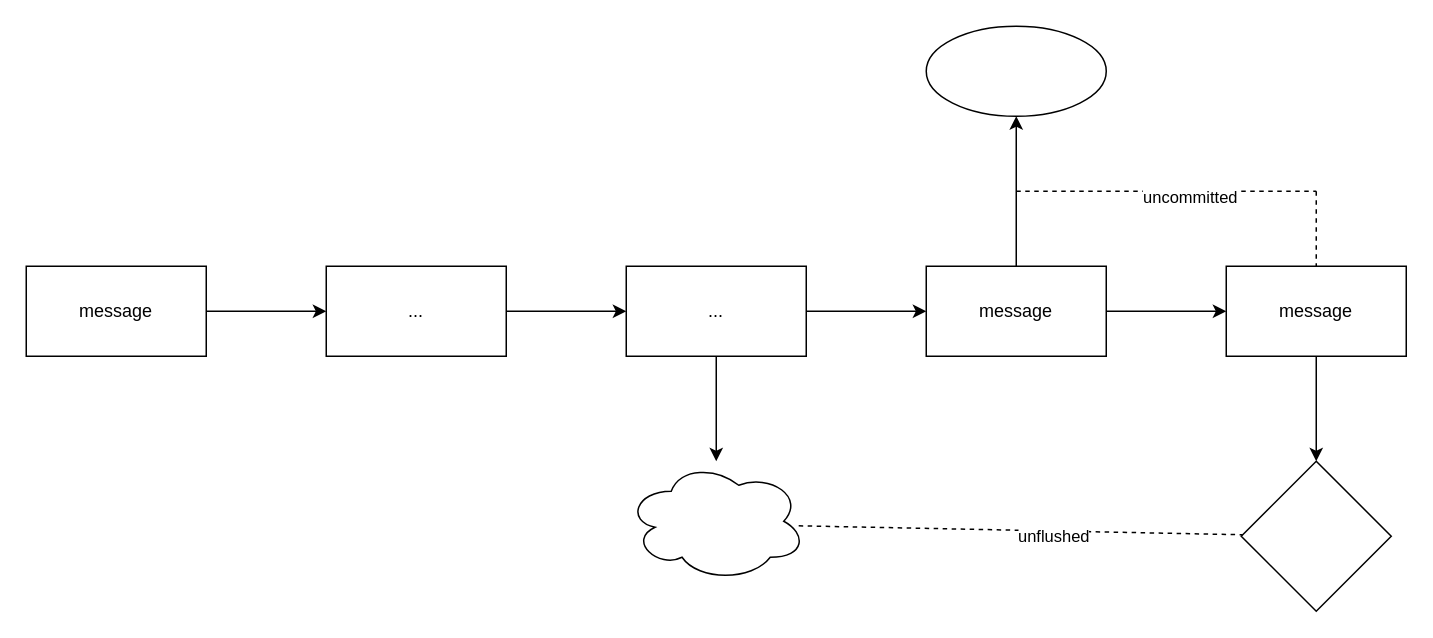
This 1433x638 diagram has some shape labels left out. The box of each missing label's shape, as (x1, y1, x2, y2) in pixels:
HighWatermark: (925, 25, 1106, 116)
LogEndOffset: (1240, 460, 1391, 611)
RecoverPoint: (625, 460, 806, 581)
